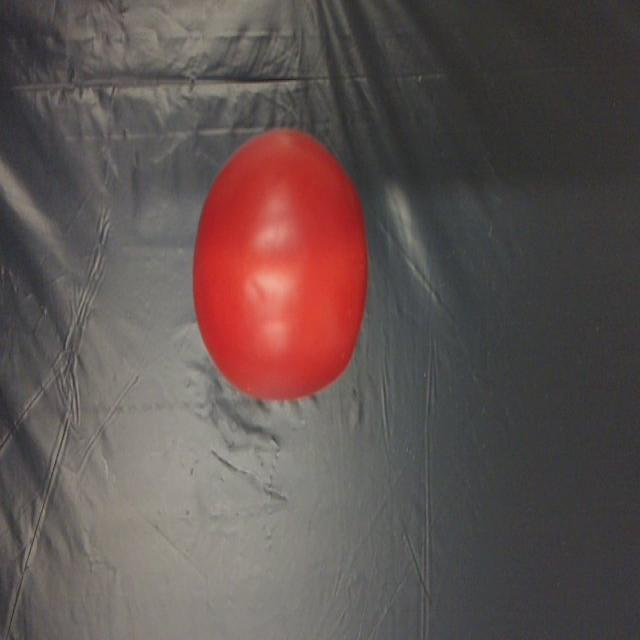kirmizi: (187, 120, 393, 417)
